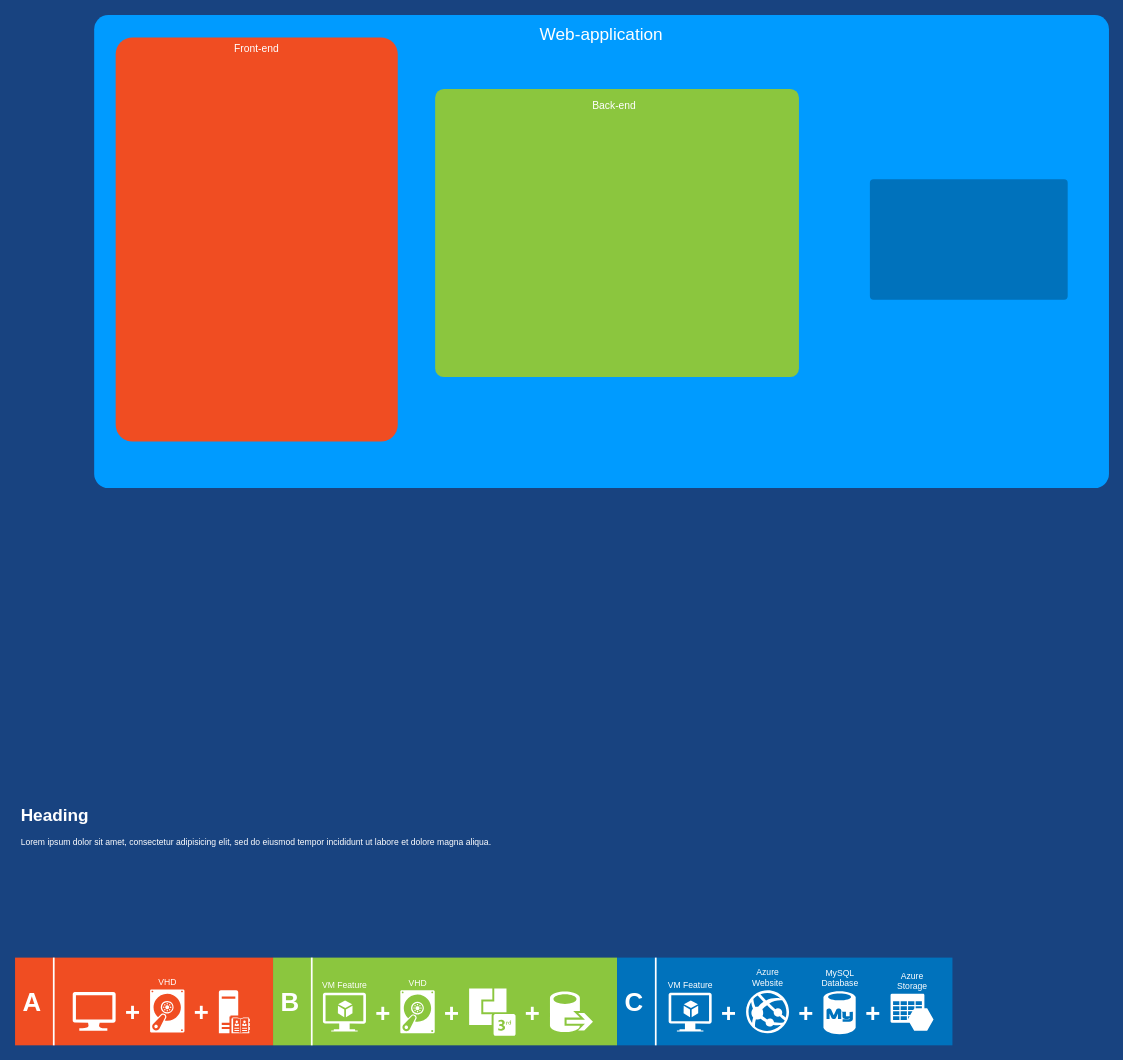
Image size: 1123x1060. Some labels were removed from this diagram. The shapes that lost their labels are listed below. From the top down, each one's centre as x and y in pixels, then its label:
At [968,239]: "Database".
At [93,1011]: "Computer".
At [233,1011]: "Server Directory".
At [492,1011]: "3rd Party Integration".
At [571,1011]: "Data Migration Wizard".
